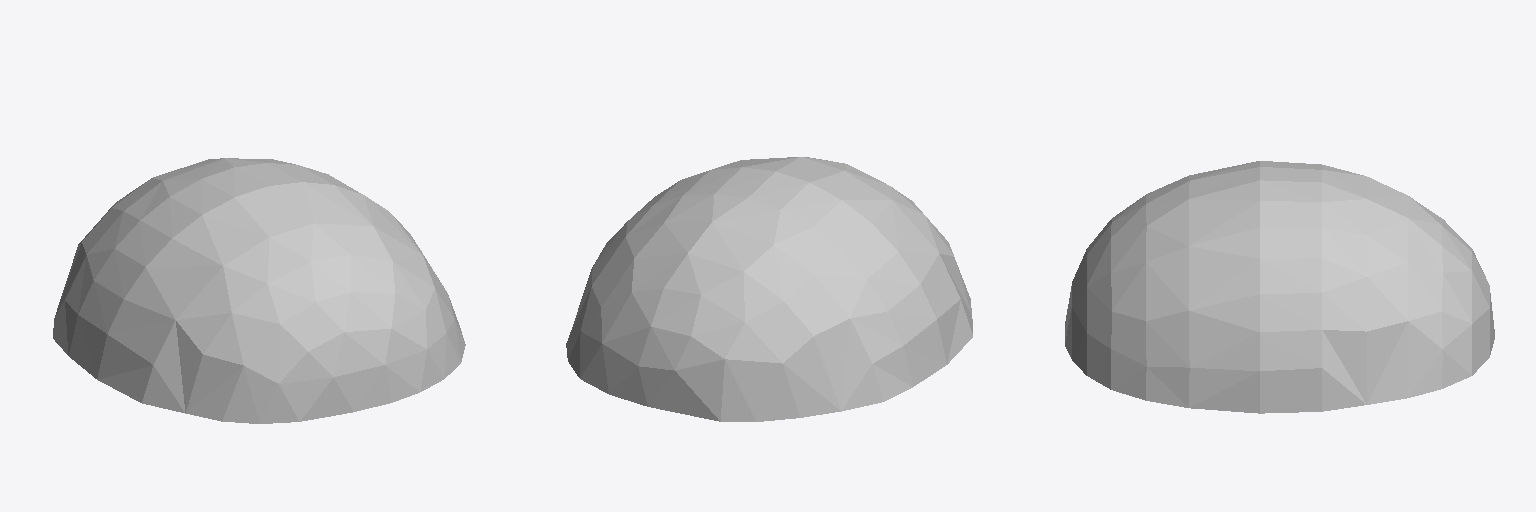
The model's file is watermelon_top.obj.
The picture shows the model from 3 angles: view 1: azimuth 30°, elevation 25°; view 2: azimuth 150°, elevation 25°; view 3: azimuth 270°, elevation 25°; orthographic projection.
Parts seen in each view (by area): view 1: watermelon_top; view 2: watermelon_top; view 3: watermelon_top.
Boxes of the visible parts, x1,y1,x2,y2 form: watermelon_top: [53, 158, 465, 423]; watermelon_top: [566, 157, 972, 421]; watermelon_top: [1065, 161, 1494, 413].
Size of the model in its own units: 3.74 by 1.62 by 4.13.